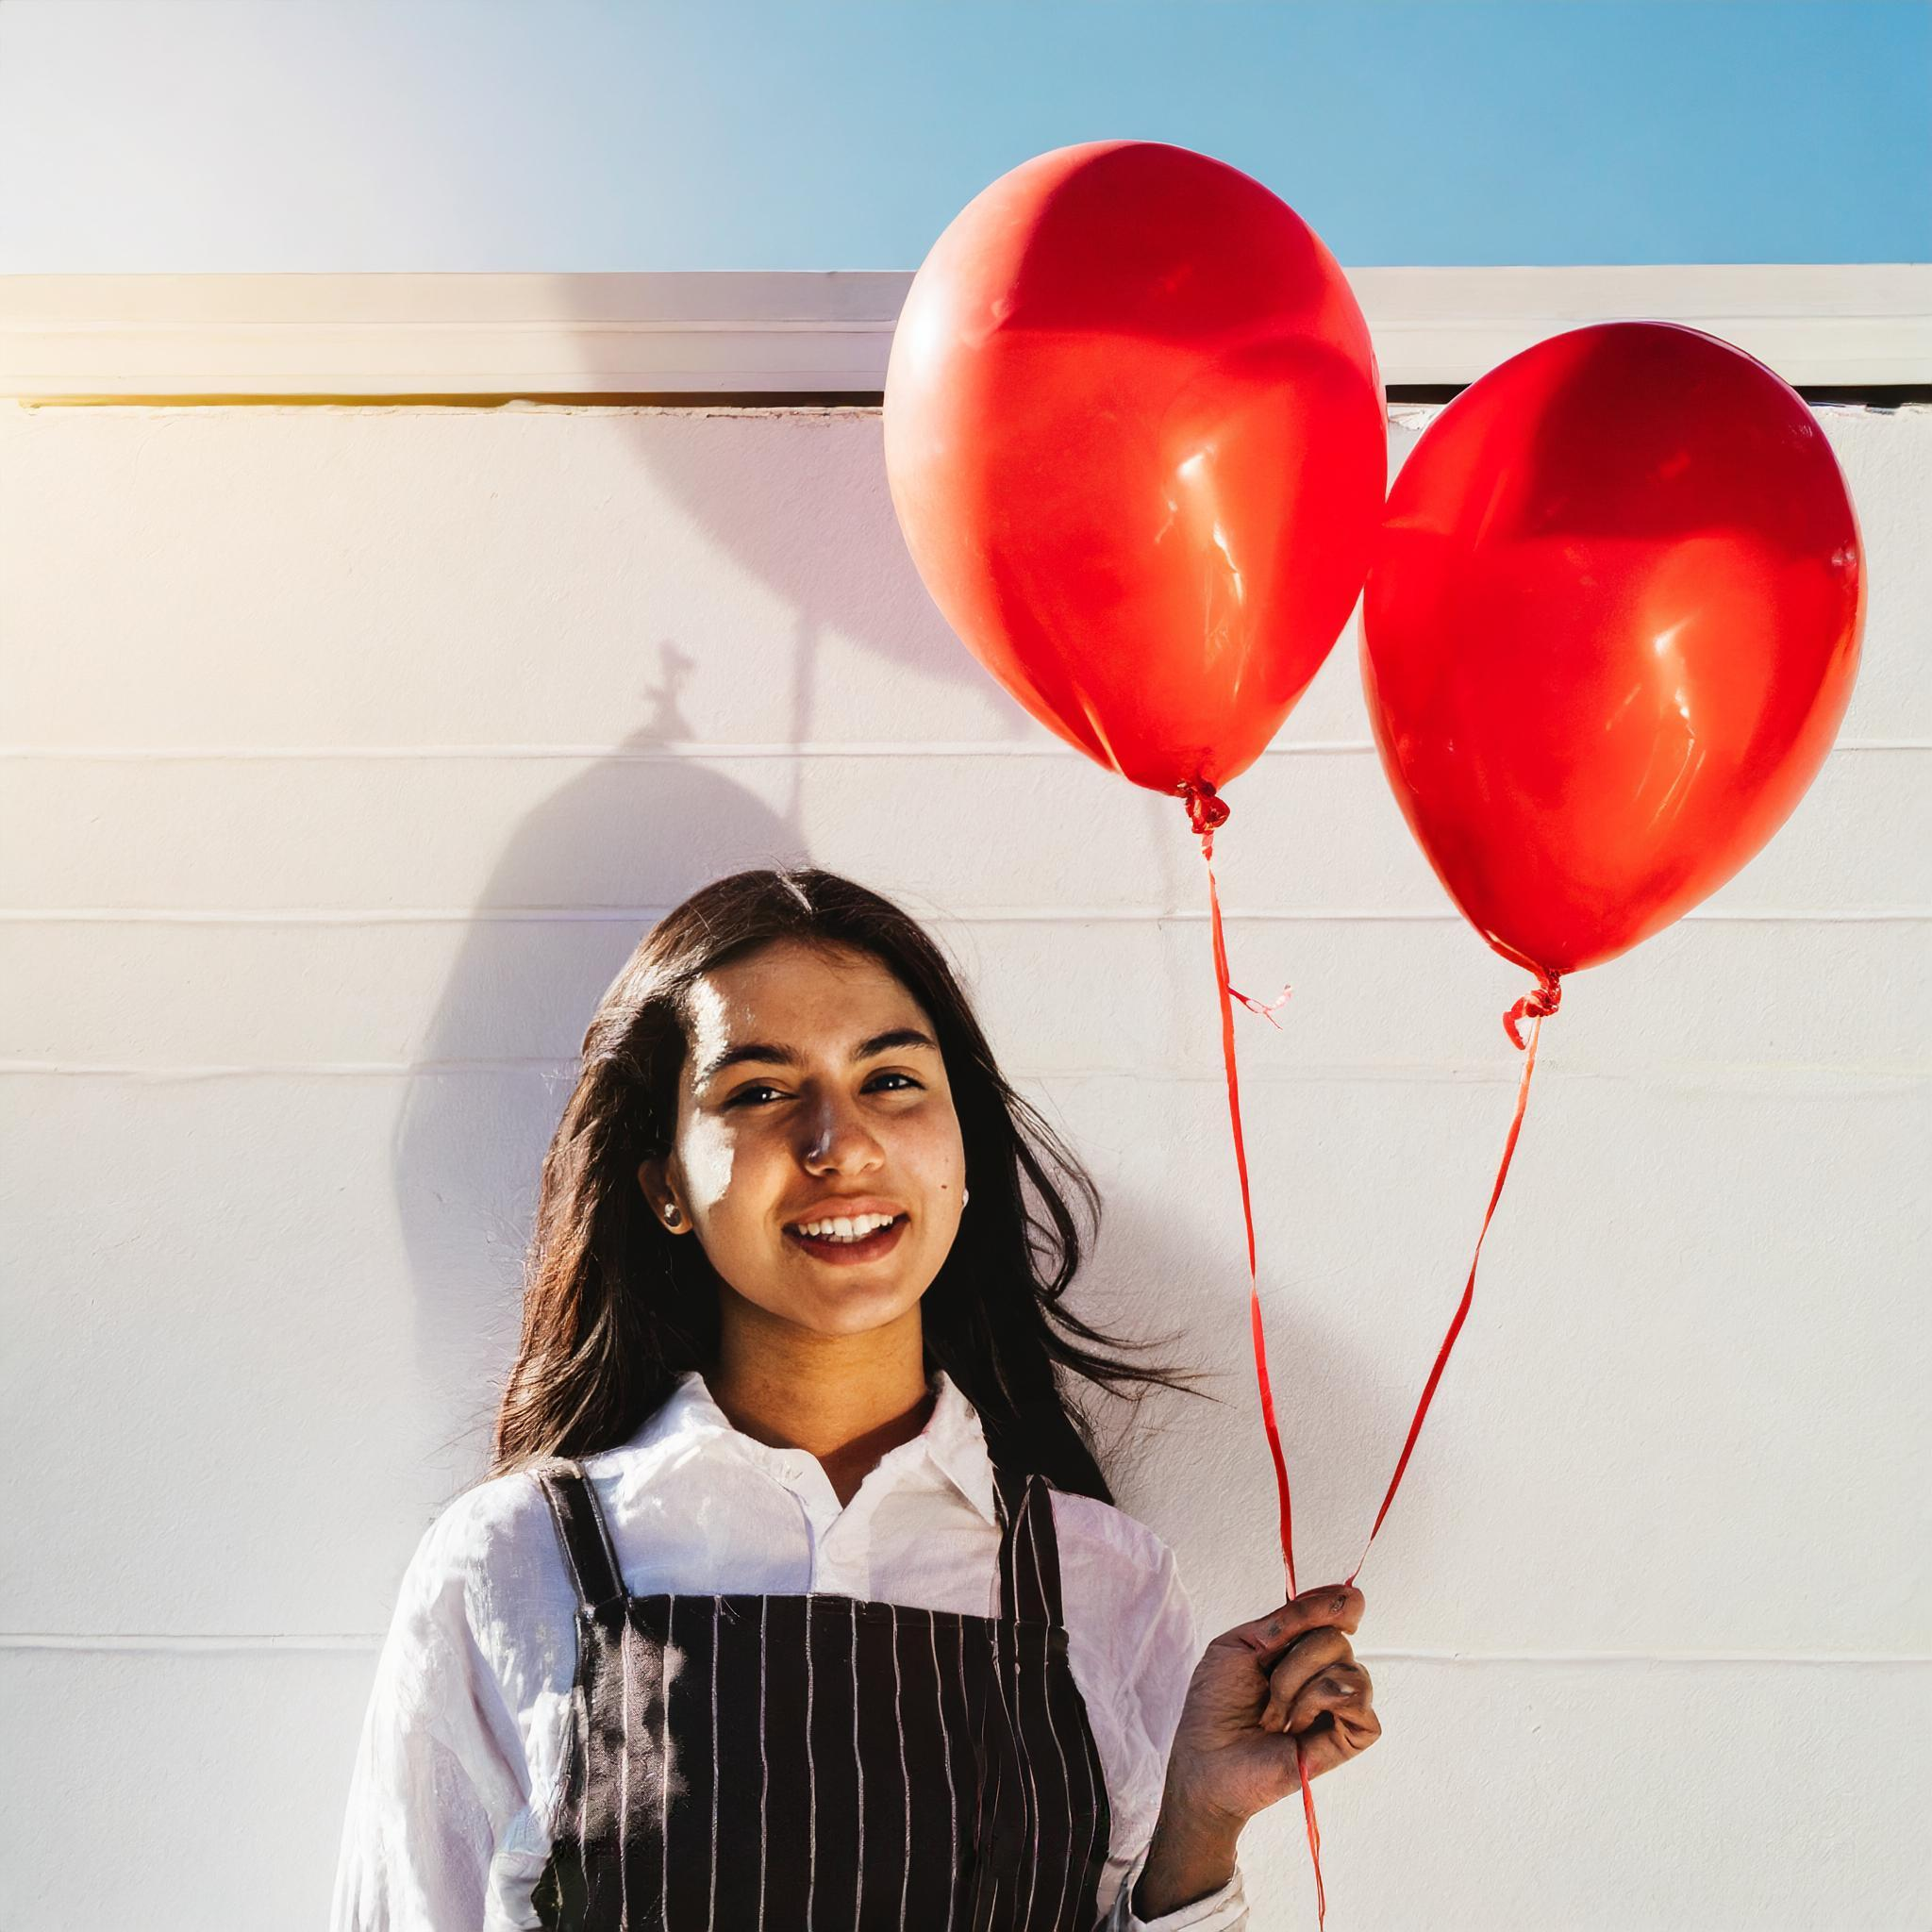red: (860, 115, 1426, 860), (1341, 294, 1879, 1044)
